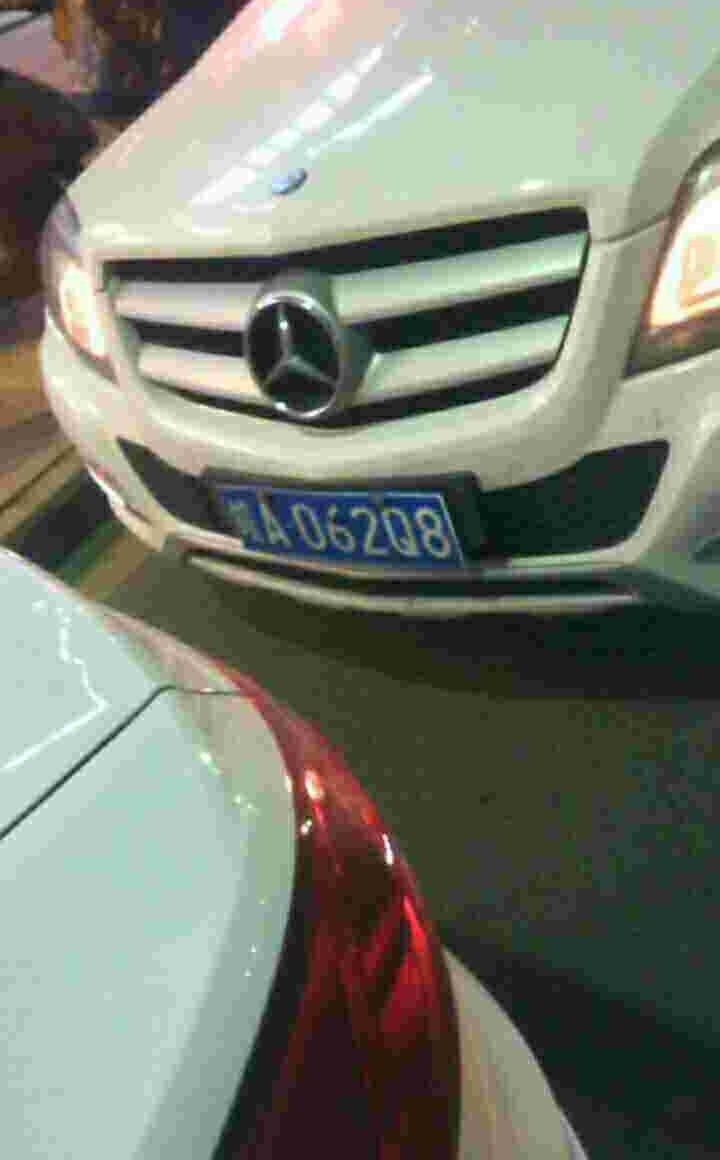license_plate: (218, 486, 467, 582)
